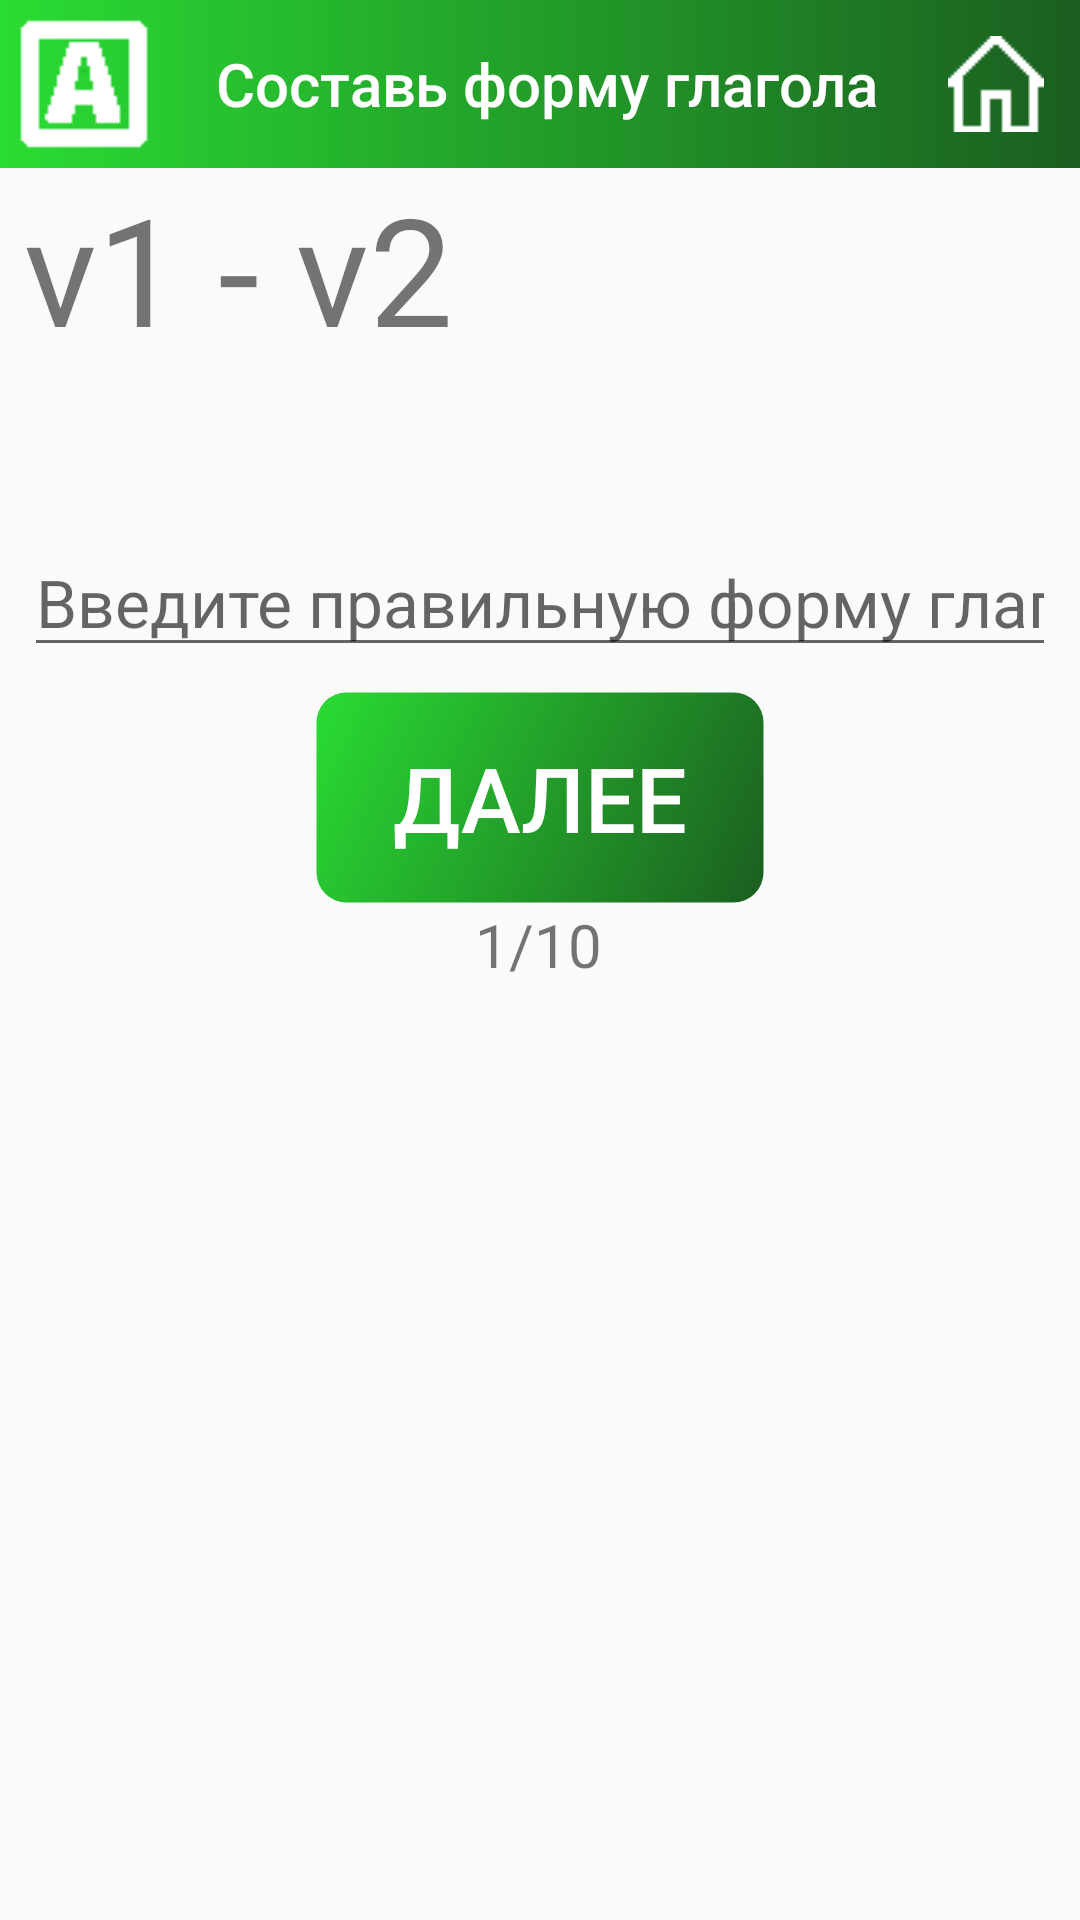

Icon click points for this 1080w x 1920h phone screenshot, format [x,y]:
home: [1014,84]
